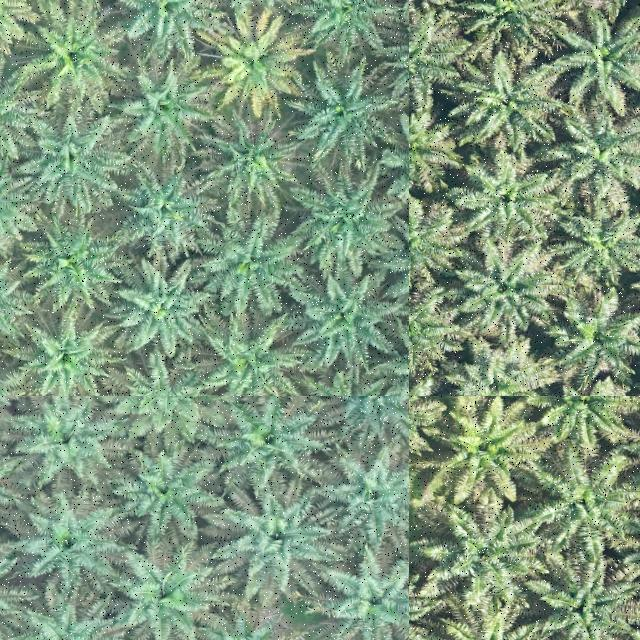Ganoderma: (227, 36, 293, 94)
